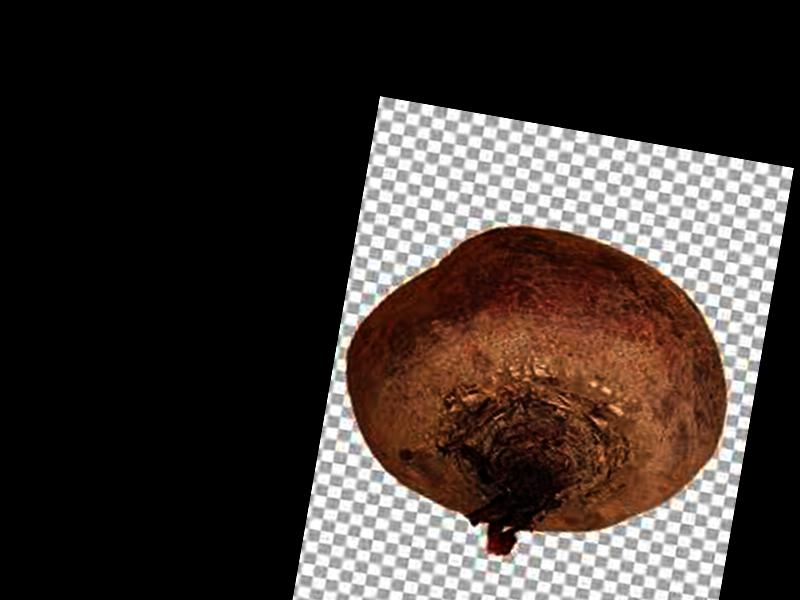Beet: (321, 201, 748, 589)
